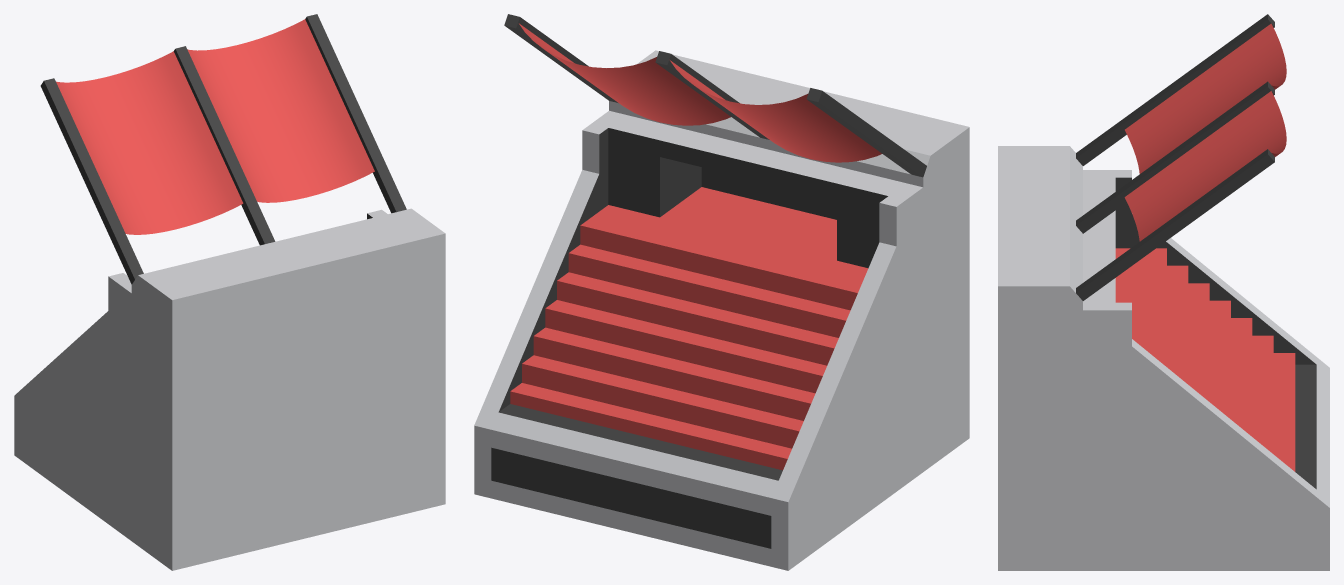
Rendered from grandStandAwning.obj.
3 renders of one model, left to right at view 1: azimuth 30°, elevation 25°; view 2: azimuth 150°, elevation 25°; view 3: azimuth 270°, elevation 25°, orthographic. The views are drawn at different scales.
Visible parts, largest first — view 1: grandStandAwning; view 2: grandStandAwning; view 3: grandStandAwning.
Part boxes in pixels (left/top/right/bottom): grandStandAwning: left=14, top=14, right=445, bottom=570; grandStandAwning: left=474, top=14, right=969, bottom=570; grandStandAwning: left=998, top=14, right=1329, bottom=570.
Size of the model in its own units: 1 by 1.39 by 1.
